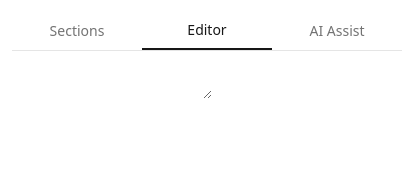
Test: responsive workspace panes › switches panes on click
This screenshot has width=414, height=172.
Step 1. Click the tab "AI Assist" → [337, 31], box [272, 12, 402, 50]
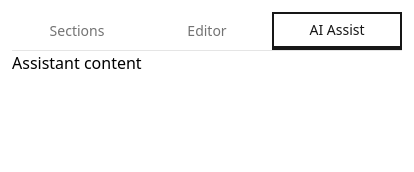
Now the panel named "AI Assist" is shown, box [12, 52, 142, 74]
